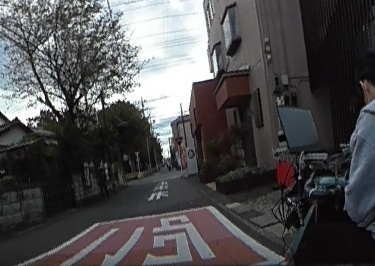person: (96, 164, 110, 198)
